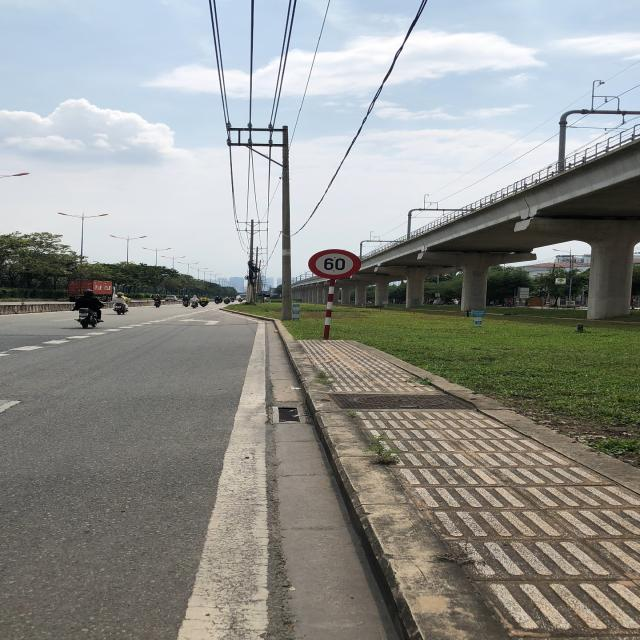Bien bao toc do toi da cho phep: (306, 249, 366, 280)
